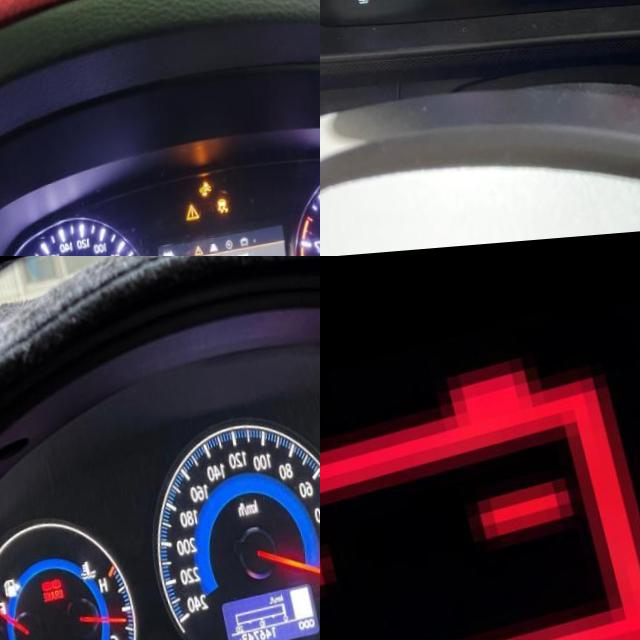Central Warning lamp: (183, 206, 198, 224)
